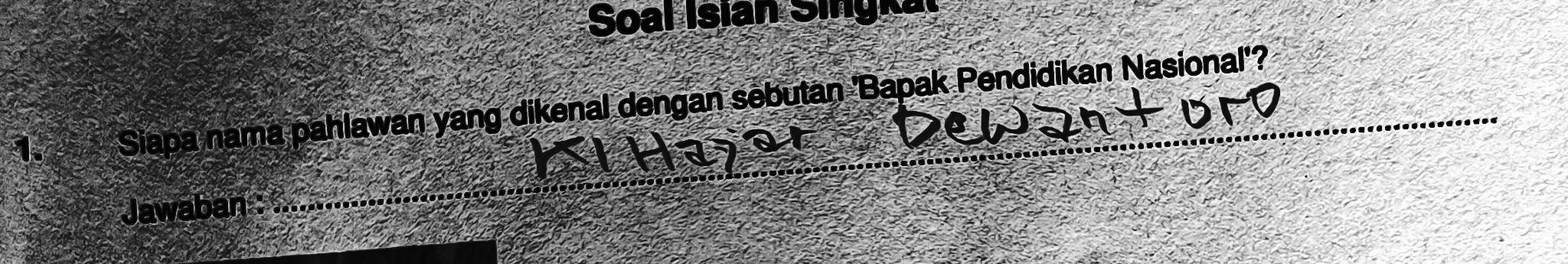jawaban: (887, 73, 1284, 151), (624, 118, 815, 178), (528, 133, 612, 179)
